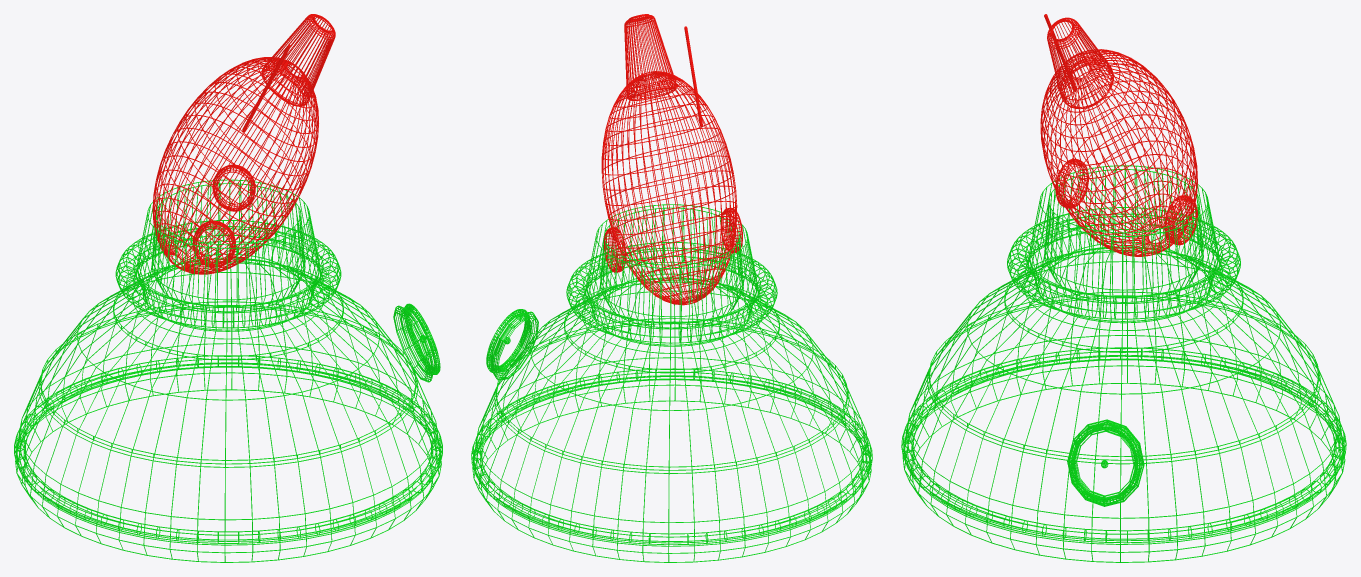
File: photon-turret-highlight-strengthened-photon-barrel.glb
3 views of the same model, side by side, from view 1: azimuth 30°, elevation 25°; view 2: azimuth 150°, elevation 25°; view 3: azimuth 270°, elevation 25° (orthographic). The views are drawn at different scales.
Parts seen in each view (by area): view 1: elastoplastic-fixed-base technical wire, strengthened-photon-barrel technical wire, chassis technical wire; view 2: elastoplastic-fixed-base technical wire, strengthened-photon-barrel technical wire, chassis technical wire; view 3: elastoplastic-fixed-base technical wire, strengthened-photon-barrel technical wire, chassis technical wire.
Boxes of the visible parts, box(x1,y1,x2,y2) form: elastoplastic-fixed-base technical wire: box(14, 220, 442, 562); strengthened-photon-barrel technical wire: box(152, 14, 335, 274); chassis technical wire: box(136, 179, 320, 331); elastoplastic-fixed-base technical wire: box(471, 242, 872, 562); strengthened-photon-barrel technical wire: box(601, 14, 742, 305); chassis technical wire: box(586, 204, 757, 346); elastoplastic-fixed-base technical wire: box(901, 207, 1346, 562); strengthened-photon-barrel technical wire: box(1040, 14, 1197, 256); chassis technical wire: box(1028, 165, 1219, 323).
Size of the model in its own units: 2.07 by 2.41 by 2.02.
